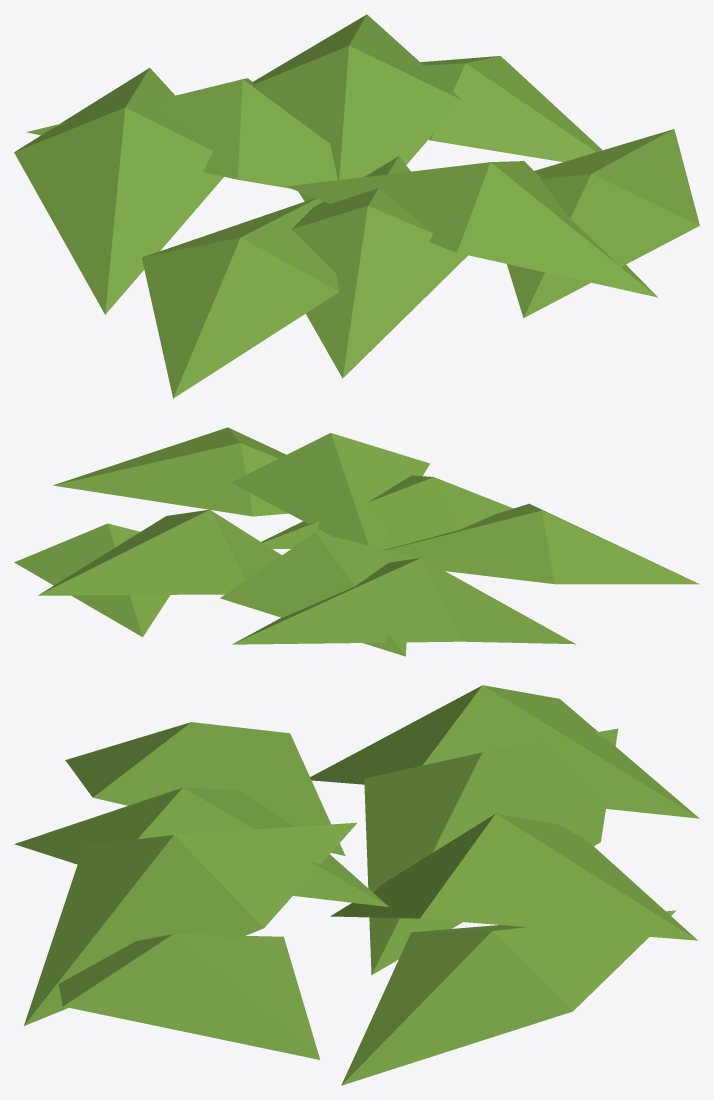
The model's file is near.glb.
The picture shows the model from 3 angles, top to bottom: view 1: azimuth 30°, elevation 25°; view 2: azimuth 150°, elevation 25°; view 3: azimuth 270°, elevation 25°; orthographic projection. The views are drawn at different scales.
Parts seen in each view (by area): view 1: near; view 2: near; view 3: near.
Part boxes in pixels (<box>): near: <box>14,14,699,398</box>; near: <box>14,427,699,656</box>; near: <box>14,685,699,1085</box>.
Size of the model in its own units: 0.6649 by 0.1353 by 0.5546.
